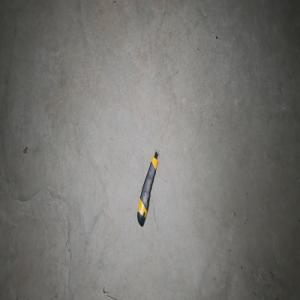Cutter: (136, 151, 159, 228)
